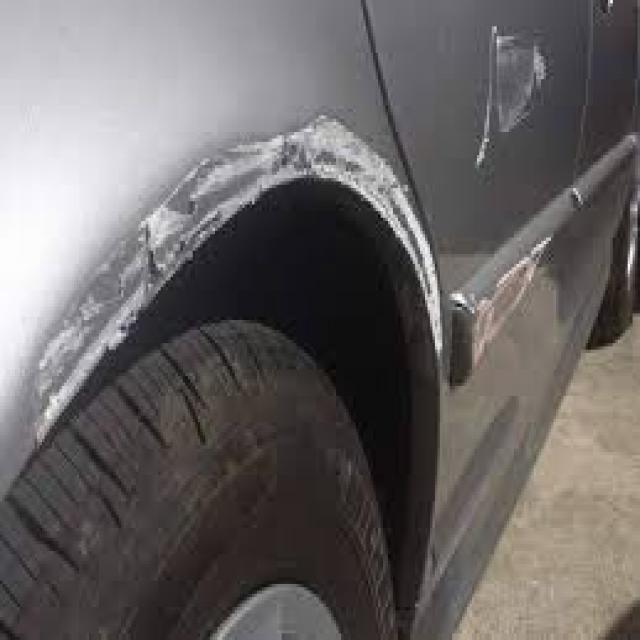dent-or-scratch: (35, 110, 447, 423), (476, 16, 548, 176), (473, 232, 551, 368)
